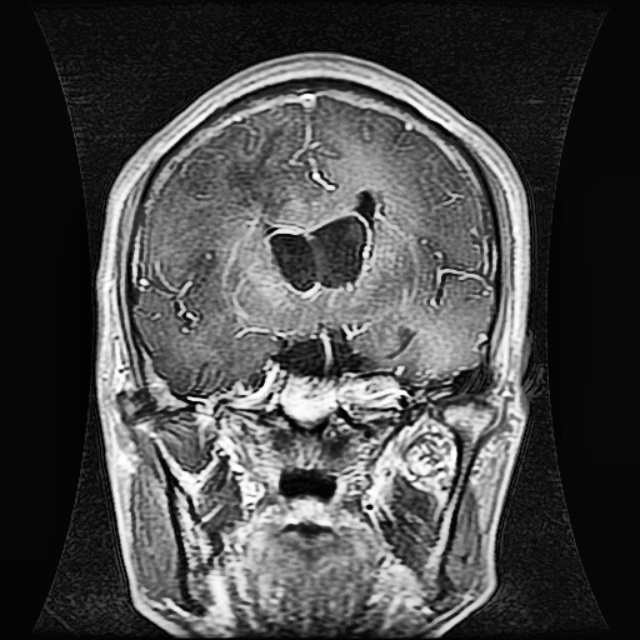Meningioma: (268, 185, 382, 295)
